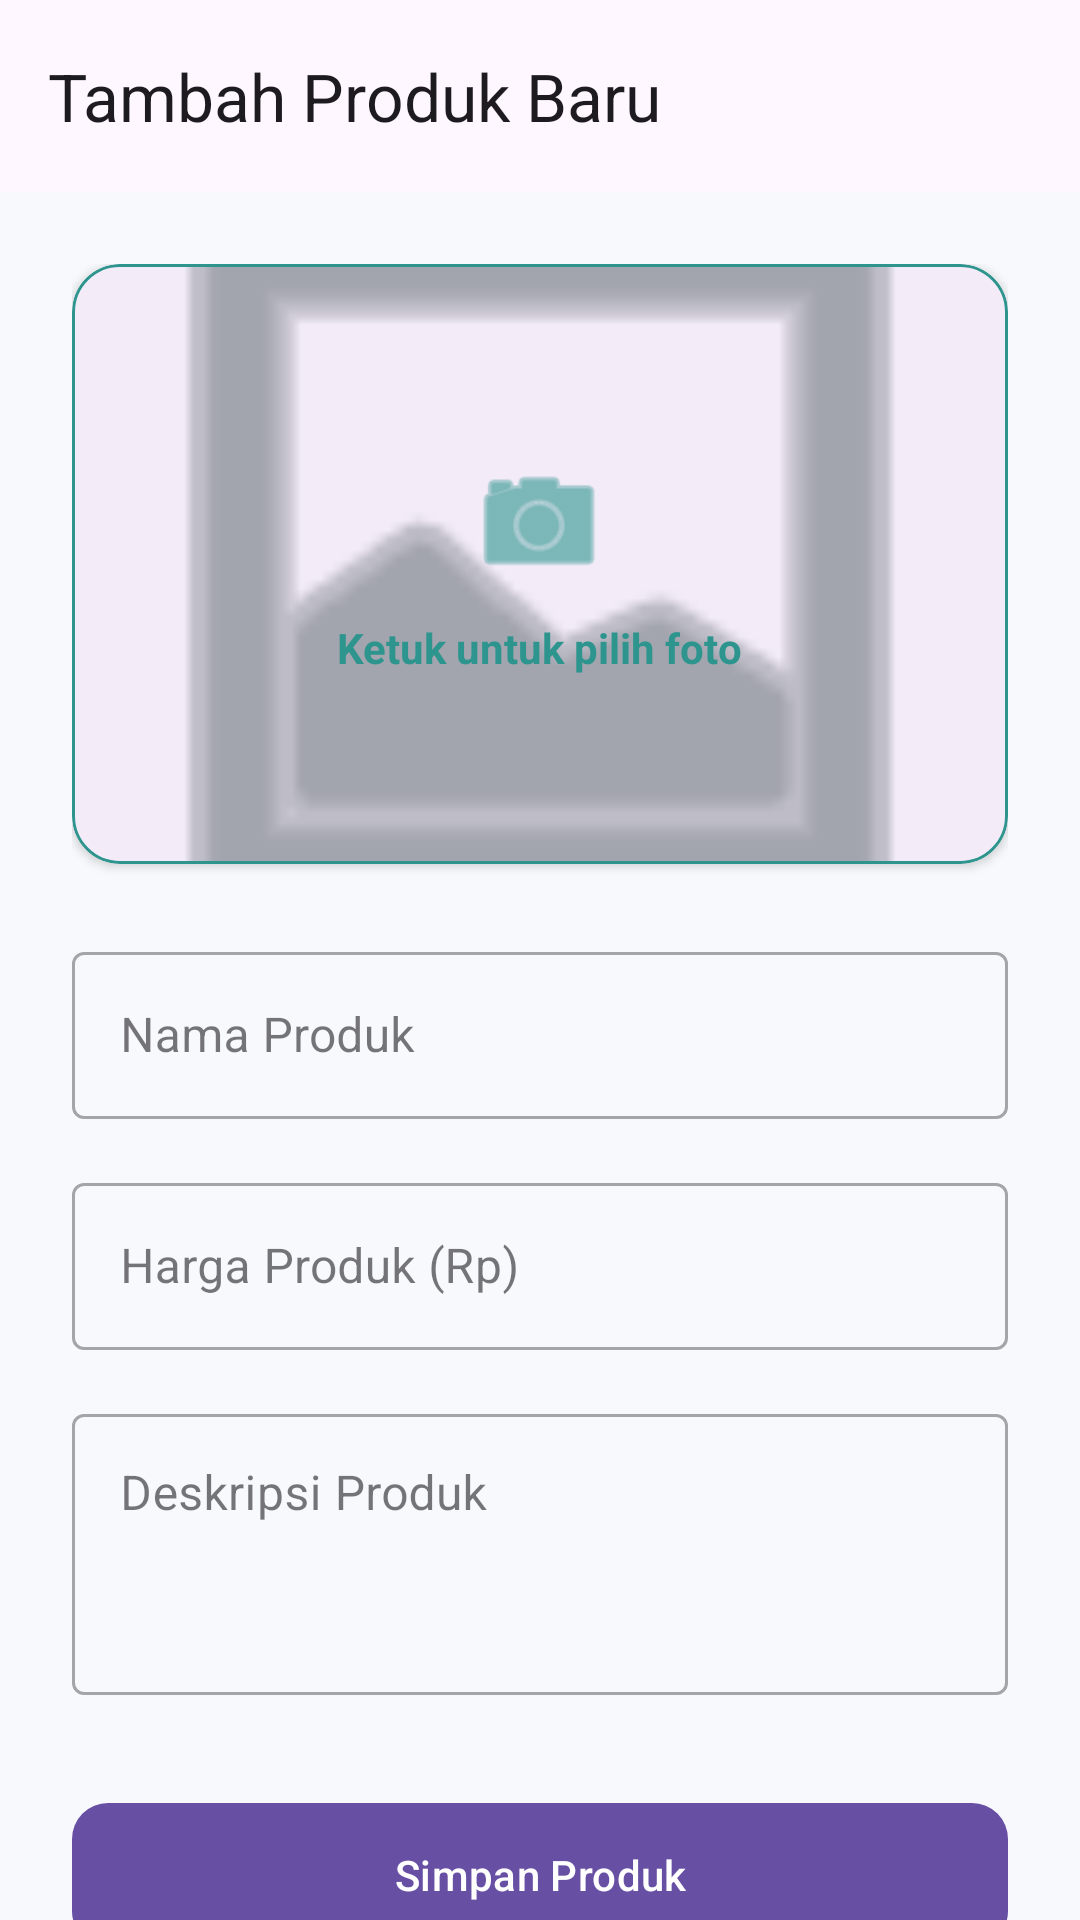

Icon click points for this 1080x1920 phone screenshot, format point (x, y):
camera: point (539, 520)
